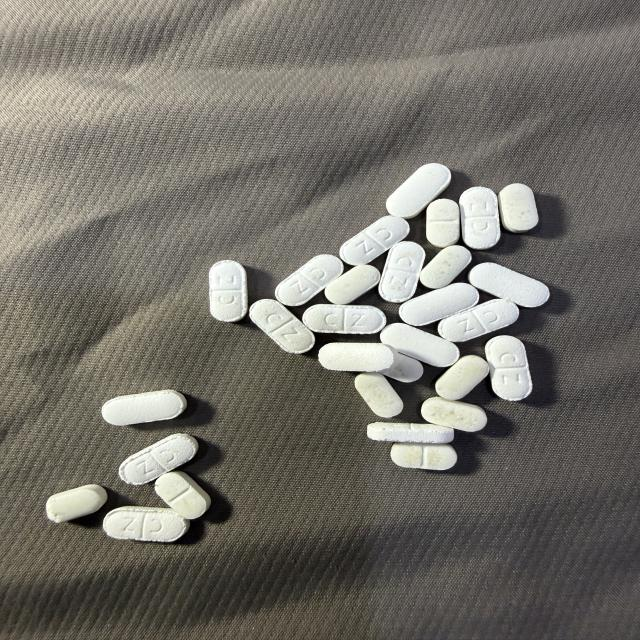pill: (119, 434, 198, 484), (468, 263, 549, 307), (386, 164, 451, 218), (438, 299, 519, 342), (275, 255, 343, 306), (250, 299, 314, 353), (340, 216, 409, 265), (399, 283, 479, 325), (381, 323, 459, 366), (103, 507, 189, 542), (486, 336, 532, 400), (102, 390, 186, 425), (379, 242, 424, 302), (155, 472, 210, 519), (303, 304, 386, 334), (460, 187, 500, 249), (209, 261, 248, 322), (436, 355, 489, 399), (354, 372, 404, 418), (46, 485, 107, 522), (421, 397, 486, 431), (420, 245, 471, 288), (319, 343, 397, 371), (325, 265, 380, 304), (498, 184, 538, 232), (391, 443, 457, 470), (367, 423, 454, 443), (426, 199, 459, 247), (380, 352, 423, 382)
